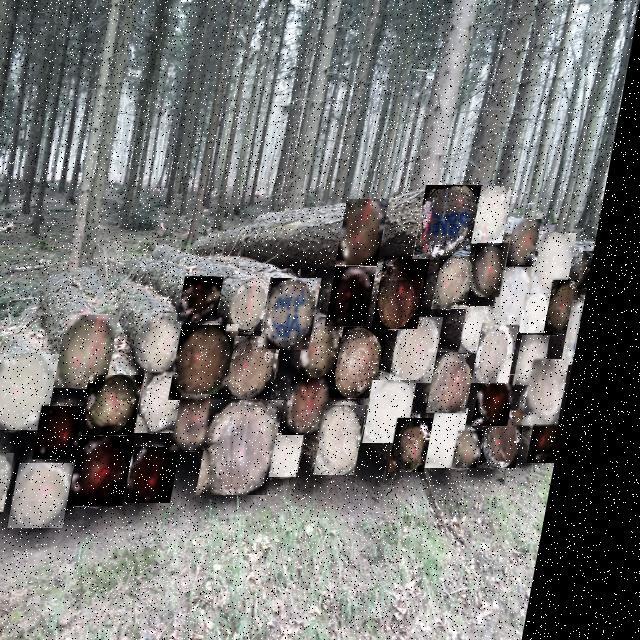wood-log: (223, 400, 295, 495), (2, 355, 68, 429), (188, 325, 247, 400), (429, 185, 487, 260), (90, 437, 147, 506), (73, 315, 126, 388), (31, 463, 88, 527), (277, 279, 327, 349), (388, 257, 436, 329), (349, 327, 396, 398), (101, 375, 154, 435), (406, 317, 452, 383), (383, 380, 429, 443), (243, 337, 290, 398), (338, 405, 378, 475), (151, 313, 196, 374), (349, 200, 391, 264), (157, 373, 200, 433), (340, 267, 383, 326), (192, 395, 237, 450), (301, 379, 345, 435), (54, 407, 101, 459), (314, 317, 354, 378), (446, 352, 486, 413), (150, 447, 193, 503), (542, 360, 578, 424), (489, 325, 528, 383), (500, 410, 538, 468), (507, 267, 544, 326), (242, 277, 281, 331), (409, 418, 448, 472), (547, 233, 582, 293), (446, 408, 480, 468), (559, 280, 593, 335), (492, 375, 528, 426), (447, 257, 483, 307), (192, 277, 232, 321), (484, 187, 516, 242), (448, 257, 482, 308), (483, 243, 515, 297), (0, 453, 29, 509), (530, 335, 562, 385), (474, 307, 507, 352), (546, 417, 577, 463), (518, 220, 548, 265), (291, 434, 320, 477), (535, 293, 561, 333), (580, 302, 594, 364), (474, 432, 498, 467), (588, 251, 601, 288)
